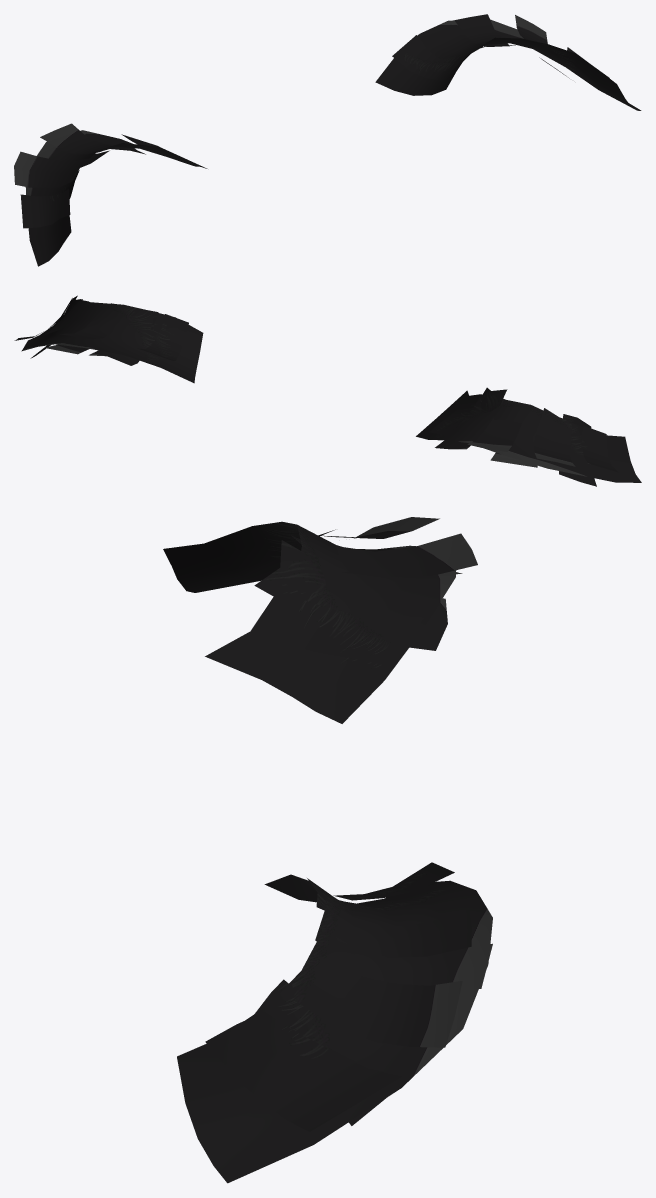
File: eyelashesUpper.obj
The picture shows the model from 3 angles, top to bottom: view 1: azimuth 30°, elevation 25°; view 2: azimuth 150°, elevation 25°; view 3: azimuth 270°, elevation 25°; orthographic projection. The views are drawn at different scales.
Parts seen in each view (by area): view 1: mrus_head_eyelashesUpper; view 2: mrus_head_eyelashesUpper; view 3: mrus_head_eyelashesUpper.
Boxes of the visible parts, box(x1,y1,x2,y2) form: mrus_head_eyelashesUpper: box(14, 14, 641, 266); mrus_head_eyelashesUpper: box(14, 295, 641, 486); mrus_head_eyelashesUpper: box(163, 517, 492, 1183).
Bounding box in the file's own units: 0.0992 × 0.0132 × 0.0234.
1 material, 1 textured.
